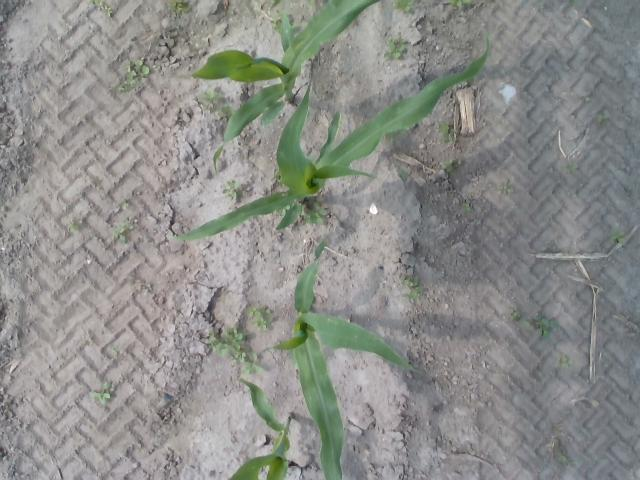Maize: (176, 30, 490, 240), (258, 240, 407, 480), (192, 0, 380, 176), (227, 380, 296, 480)
Weeds: (209, 328, 246, 364), (196, 86, 220, 108), (536, 313, 556, 336), (242, 352, 262, 374), (90, 382, 110, 404), (306, 205, 328, 223), (128, 61, 152, 77), (223, 182, 244, 198), (440, 123, 456, 142), (388, 43, 406, 58), (118, 78, 138, 91), (404, 277, 420, 292), (498, 182, 514, 196), (393, 0, 413, 10), (259, 316, 272, 330), (171, 2, 186, 13), (439, 159, 454, 170), (248, 308, 262, 319), (115, 228, 126, 242), (614, 230, 626, 242), (557, 355, 569, 367), (218, 107, 230, 118), (126, 218, 138, 228), (463, 199, 472, 212), (102, 4, 113, 14), (508, 309, 518, 319), (68, 223, 78, 233), (568, 163, 579, 172), (456, 0, 472, 6)
